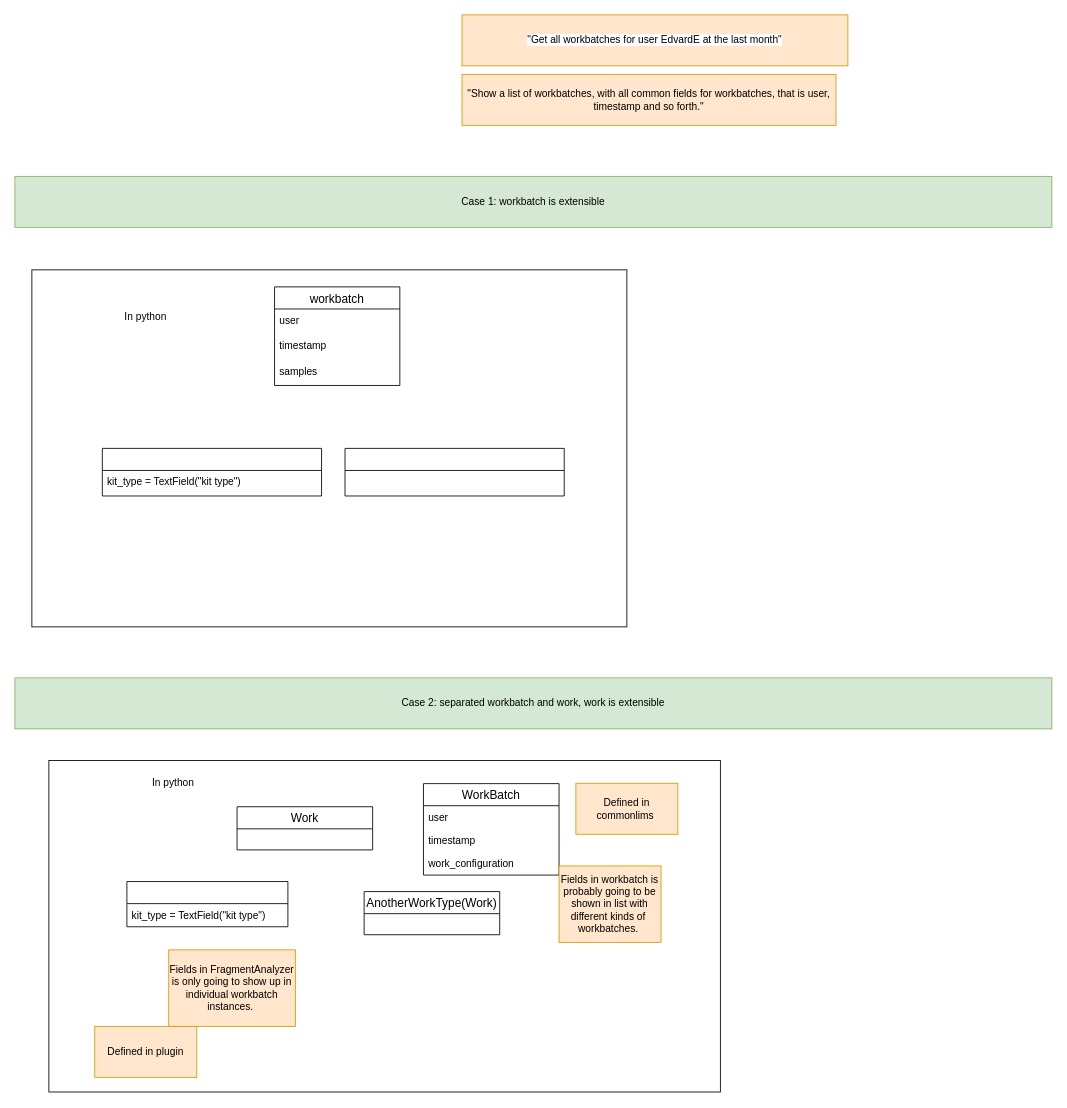
The diagram is 1067 pixels wide and 1108 high, and some of its shapes have lost their labels. Each missing label, with the box of its shape:
AnotherWorktype(workbatch): (344, 448, 564, 496)
FragmentAnalyzer(work): (126, 881, 288, 927)
FragmentAnalyzer(workbatch): (101, 448, 322, 496)
